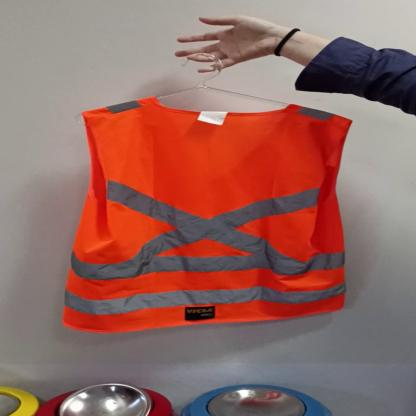colete: (62, 94, 352, 332)
